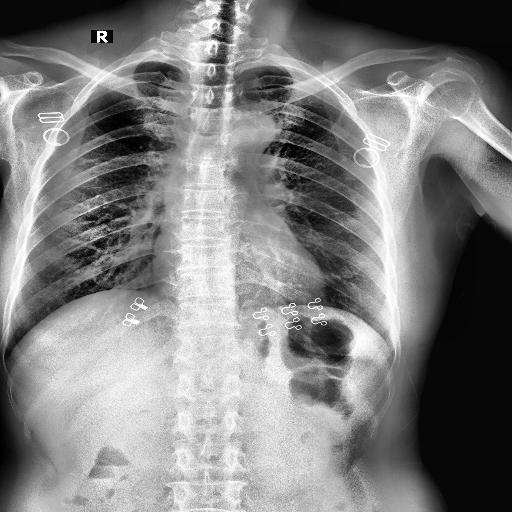0- Aortic enlargement: (230, 108, 280, 162), (229, 110, 276, 146)
11- Pleural thickening: (218, 108, 278, 154)
